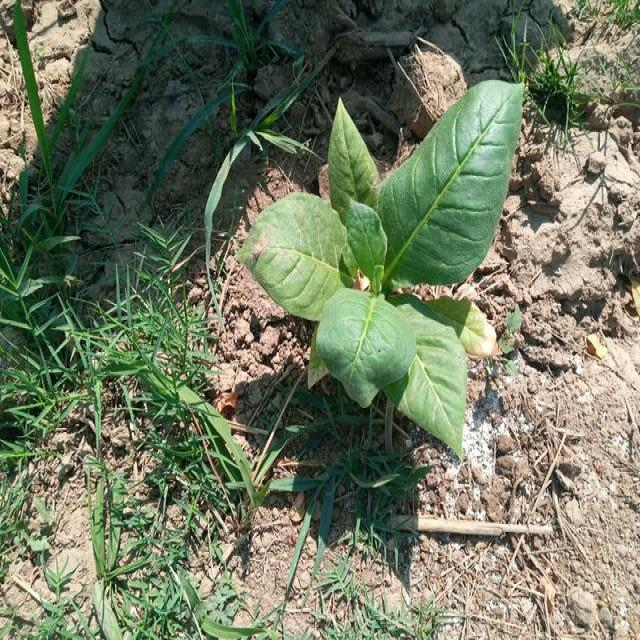crop: (254, 86, 512, 454)
